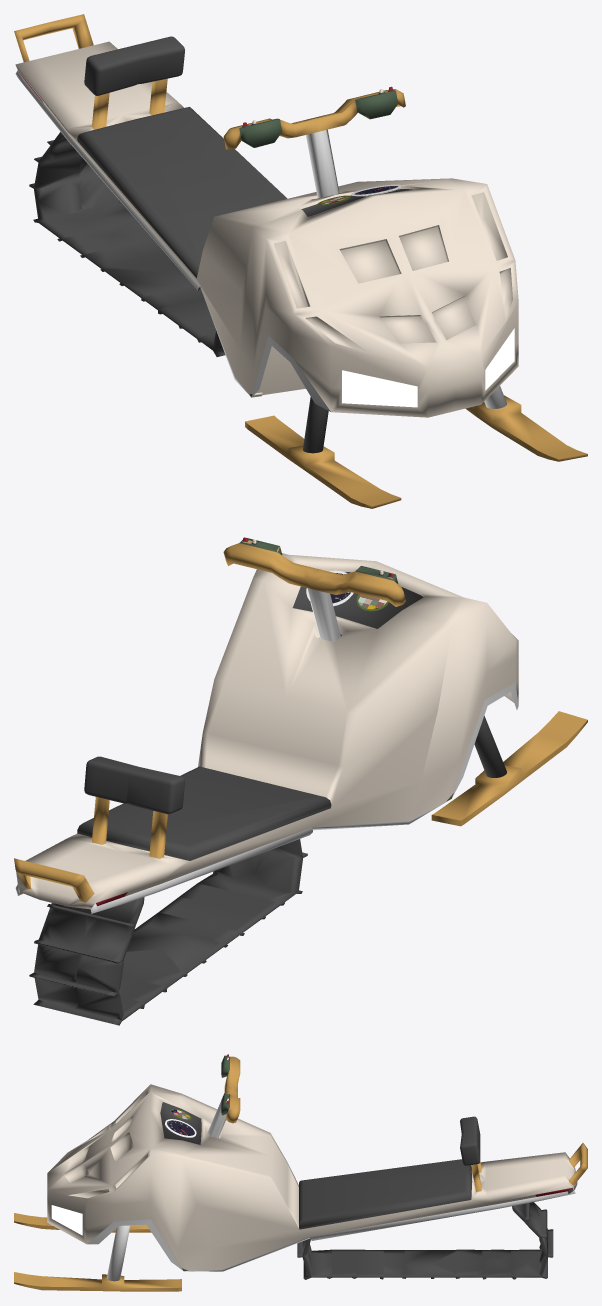
File: snowmobile.glb
The picture shows the model from 3 angles, top to bottom: view 1: azimuth 30°, elevation 25°; view 2: azimuth 150°, elevation 25°; view 3: azimuth 270°, elevation 25°; orthographic projection. The views are drawn at different scales.
Parts seen in each view (by area): view 1: SnowmobileBase, belt; view 2: SnowmobileBase, belt; view 3: SnowmobileBase, belt, SPD.L.
Part boxes in pixels (bbox=[...]): SnowmobileBase: bbox=[14, 14, 587, 508]; belt: bbox=[29, 132, 225, 356]; SnowmobileBase: bbox=[14, 537, 587, 913]; belt: bbox=[29, 839, 307, 1025]; SnowmobileBase: bbox=[14, 1054, 587, 1291]; belt: bbox=[297, 1202, 553, 1279]; SPD.L: bbox=[165, 1119, 196, 1137].
Size of the model in its own units: 1 by 1.23 by 3.4.
3 materials, 2 textured.
